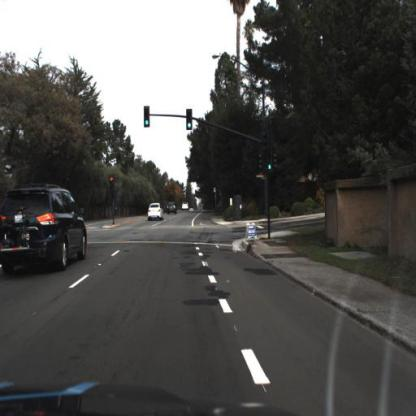car: (2, 182, 88, 269), (148, 201, 164, 224), (167, 203, 178, 215), (183, 202, 190, 212)
trafficLight-Green: (267, 152, 274, 174), (145, 104, 151, 129), (187, 107, 193, 132)
trafficLight-RedLeft: (109, 174, 117, 197)
